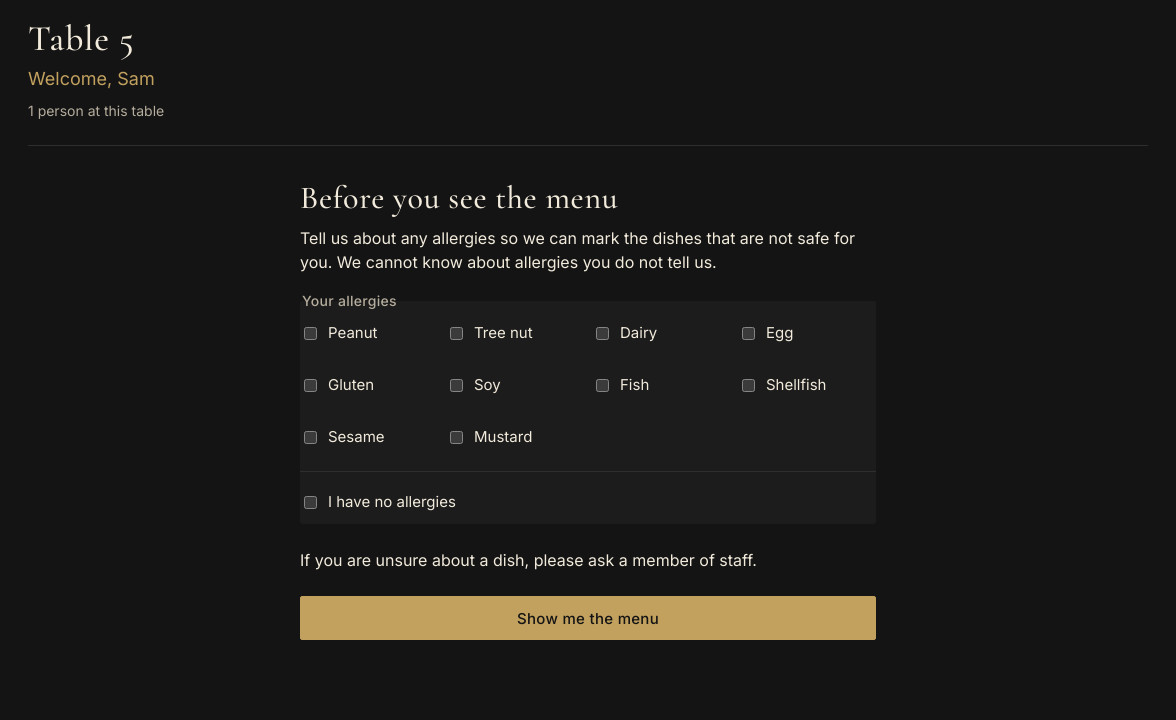
Scenario: GuestTable page › 4. After a successful save the menu screen appears and the allergy form is gone
Click the checkbox labelled "Peanut": (310, 333) [304,326,317,340]
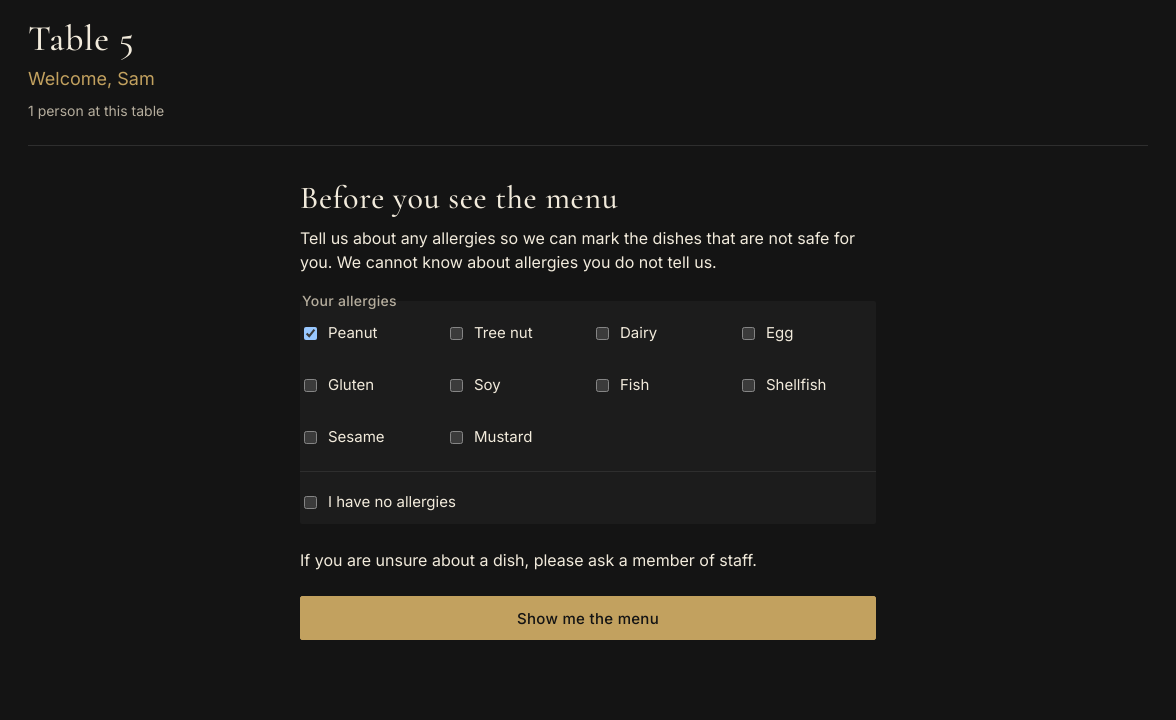
Click the button "Show me the menu": (588, 618) [300,596,876,640]
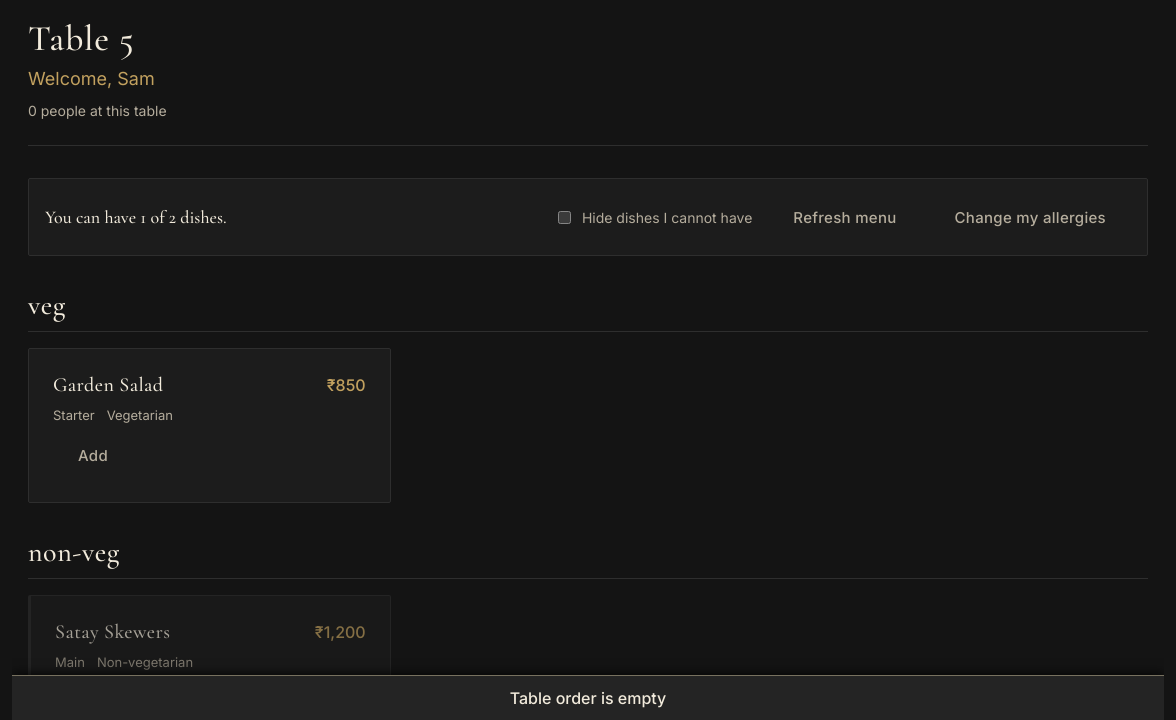
Expected: the button "Show me the menu" is gone
